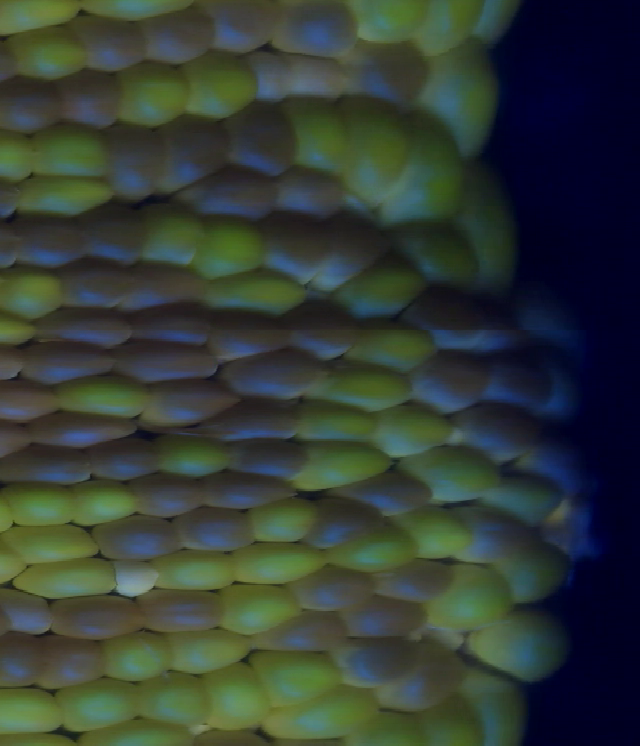fluorescent: (367, 106, 472, 233), (399, 33, 503, 155), (326, 93, 423, 213), (449, 160, 529, 293), (465, 600, 575, 692), (382, 215, 490, 303), (277, 87, 367, 183), (422, 557, 522, 643), (326, 247, 436, 325), (256, 683, 392, 746), (256, 685, 386, 746), (235, 645, 356, 710), (296, 355, 422, 417), (190, 260, 315, 322), (179, 207, 275, 287), (275, 435, 402, 495), (392, 442, 503, 510), (19, 116, 120, 190), (172, 43, 262, 126), (455, 665, 543, 746), (109, 56, 200, 133), (340, 313, 443, 379), (359, 399, 469, 460), (49, 672, 152, 737), (3, 555, 126, 609), (152, 619, 257, 680), (135, 195, 213, 277), (7, 166, 125, 220), (279, 393, 380, 455), (473, 465, 570, 529), (130, 667, 225, 732), (226, 536, 336, 592), (196, 660, 277, 736), (493, 536, 576, 610), (213, 577, 309, 639), (93, 623, 182, 689), (387, 500, 476, 565), (319, 522, 426, 576), (0, 473, 92, 535), (402, 1, 495, 62), (150, 540, 245, 599), (56, 475, 149, 533), (239, 490, 326, 549), (0, 260, 73, 330), (0, 679, 75, 746), (0, 522, 103, 570), (343, 1, 435, 49), (0, 120, 42, 183), (0, 526, 36, 593), (0, 303, 42, 352)
nonfluorescent: (508, 269, 598, 366), (308, 205, 403, 296), (373, 633, 470, 719), (531, 406, 612, 508), (145, 110, 235, 198), (524, 336, 605, 432), (443, 499, 548, 569), (214, 98, 303, 179), (445, 399, 547, 469), (255, 208, 340, 291), (344, 36, 437, 111), (134, 373, 250, 433), (277, 294, 372, 366), (193, 306, 303, 368), (93, 119, 175, 202), (174, 161, 285, 222), (106, 335, 231, 388), (115, 258, 218, 322), (61, 9, 155, 79), (215, 347, 327, 405), (405, 347, 495, 419), (129, 5, 225, 71), (5, 210, 102, 274), (327, 633, 430, 693), (268, 1, 367, 63), (68, 198, 152, 271), (397, 283, 485, 352), (243, 605, 355, 659), (42, 592, 156, 645), (299, 494, 394, 557), (336, 464, 440, 521), (8, 338, 123, 389), (196, 396, 306, 449), (29, 303, 143, 354), (333, 589, 440, 642), (455, 289, 537, 358), (23, 409, 146, 455), (89, 510, 190, 566), (484, 348, 564, 418), (29, 629, 114, 694), (0, 438, 102, 492), (221, 434, 322, 487), (194, 467, 300, 517), (121, 301, 224, 352), (130, 585, 235, 635), (196, 1, 286, 59), (54, 255, 142, 314), (293, 562, 384, 617), (53, 69, 128, 135), (170, 502, 262, 555), (271, 161, 352, 219), (0, 73, 67, 142), (81, 431, 165, 485), (276, 49, 354, 105), (125, 467, 209, 519), (378, 556, 458, 607), (0, 583, 61, 638), (0, 378, 67, 428), (0, 627, 53, 690), (244, 49, 300, 104), (0, 415, 44, 468), (0, 212, 31, 275), (0, 339, 37, 389)
